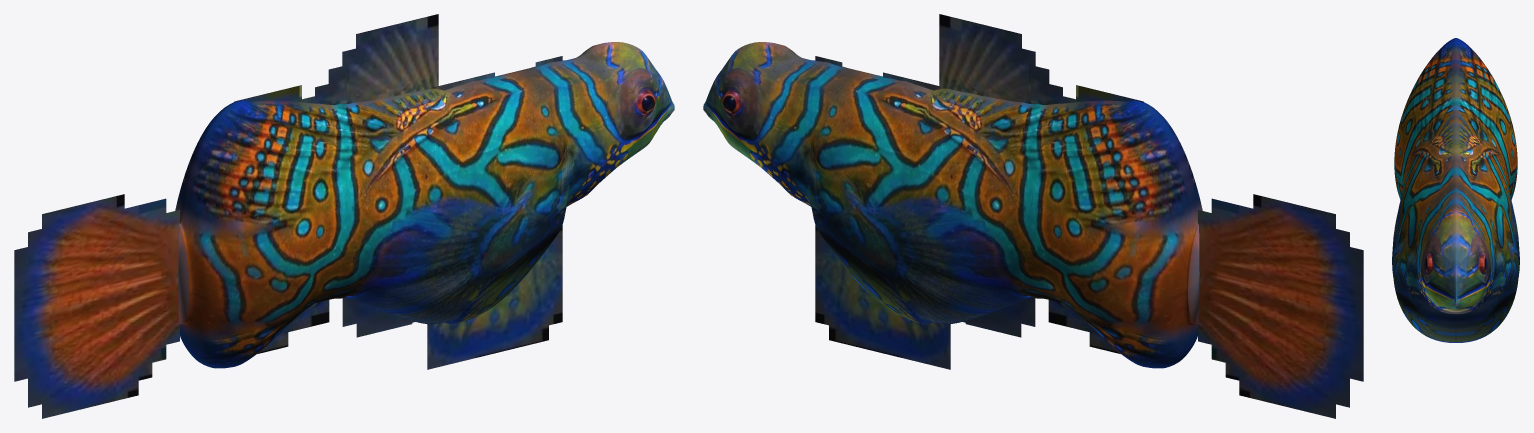
Rendered from real-synchiropus_splendidus.glb.
The picture shows the model from 3 angles, left to right: view 1: azimuth 30°, elevation 25°; view 2: azimuth 150°, elevation 25°; view 3: azimuth 270°, elevation 25°; orthographic projection. The views are drawn at different scales.
Visible parts, largest first — view 1: synchiropus_splendidus; view 2: synchiropus_splendidus; view 3: synchiropus_splendidus.
Boxes of the visible parts, box(x1,y1,x2,y2) form: synchiropus_splendidus: box(14, 14, 674, 418); synchiropus_splendidus: box(703, 14, 1363, 418); synchiropus_splendidus: box(1392, 38, 1519, 342).
Bounding box in the file's own units: 0.0698 × 0.0357 × 0.0144.
1 material, 1 textured.
